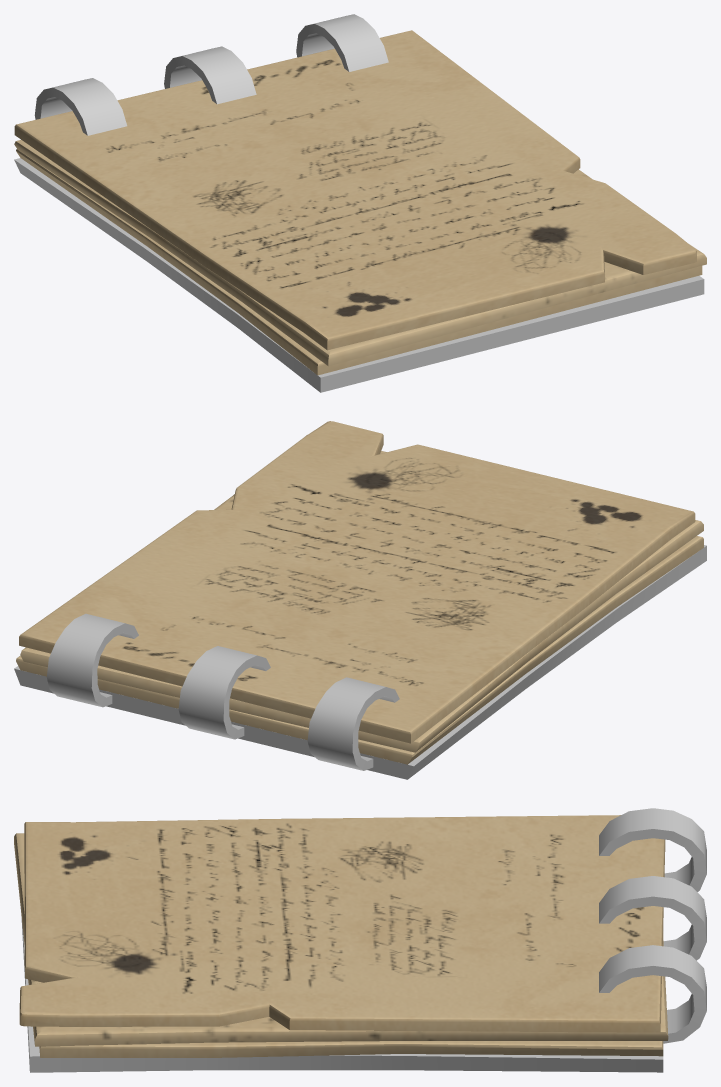
The model's file is NotePad_C_001.fbx.
3 views of the same model, one above another, from view 1: azimuth 30°, elevation 25°; view 2: azimuth 150°, elevation 25°; view 3: azimuth 270°, elevation 25° (orthographic). The views are drawn at different scales.
Visible parts, largest first — view 1: NotePad_C_001; view 2: NotePad_C_001; view 3: NotePad_C_001.
Part boxes in pixels (<box>): NotePad_C_001: <box>14,14,706,392</box>; NotePad_C_001: <box>14,421,706,779</box>; NotePad_C_001: <box>14,808,706,1072</box>.
Size of the model in its own units: 16.39 by 2.92 by 22.72.
